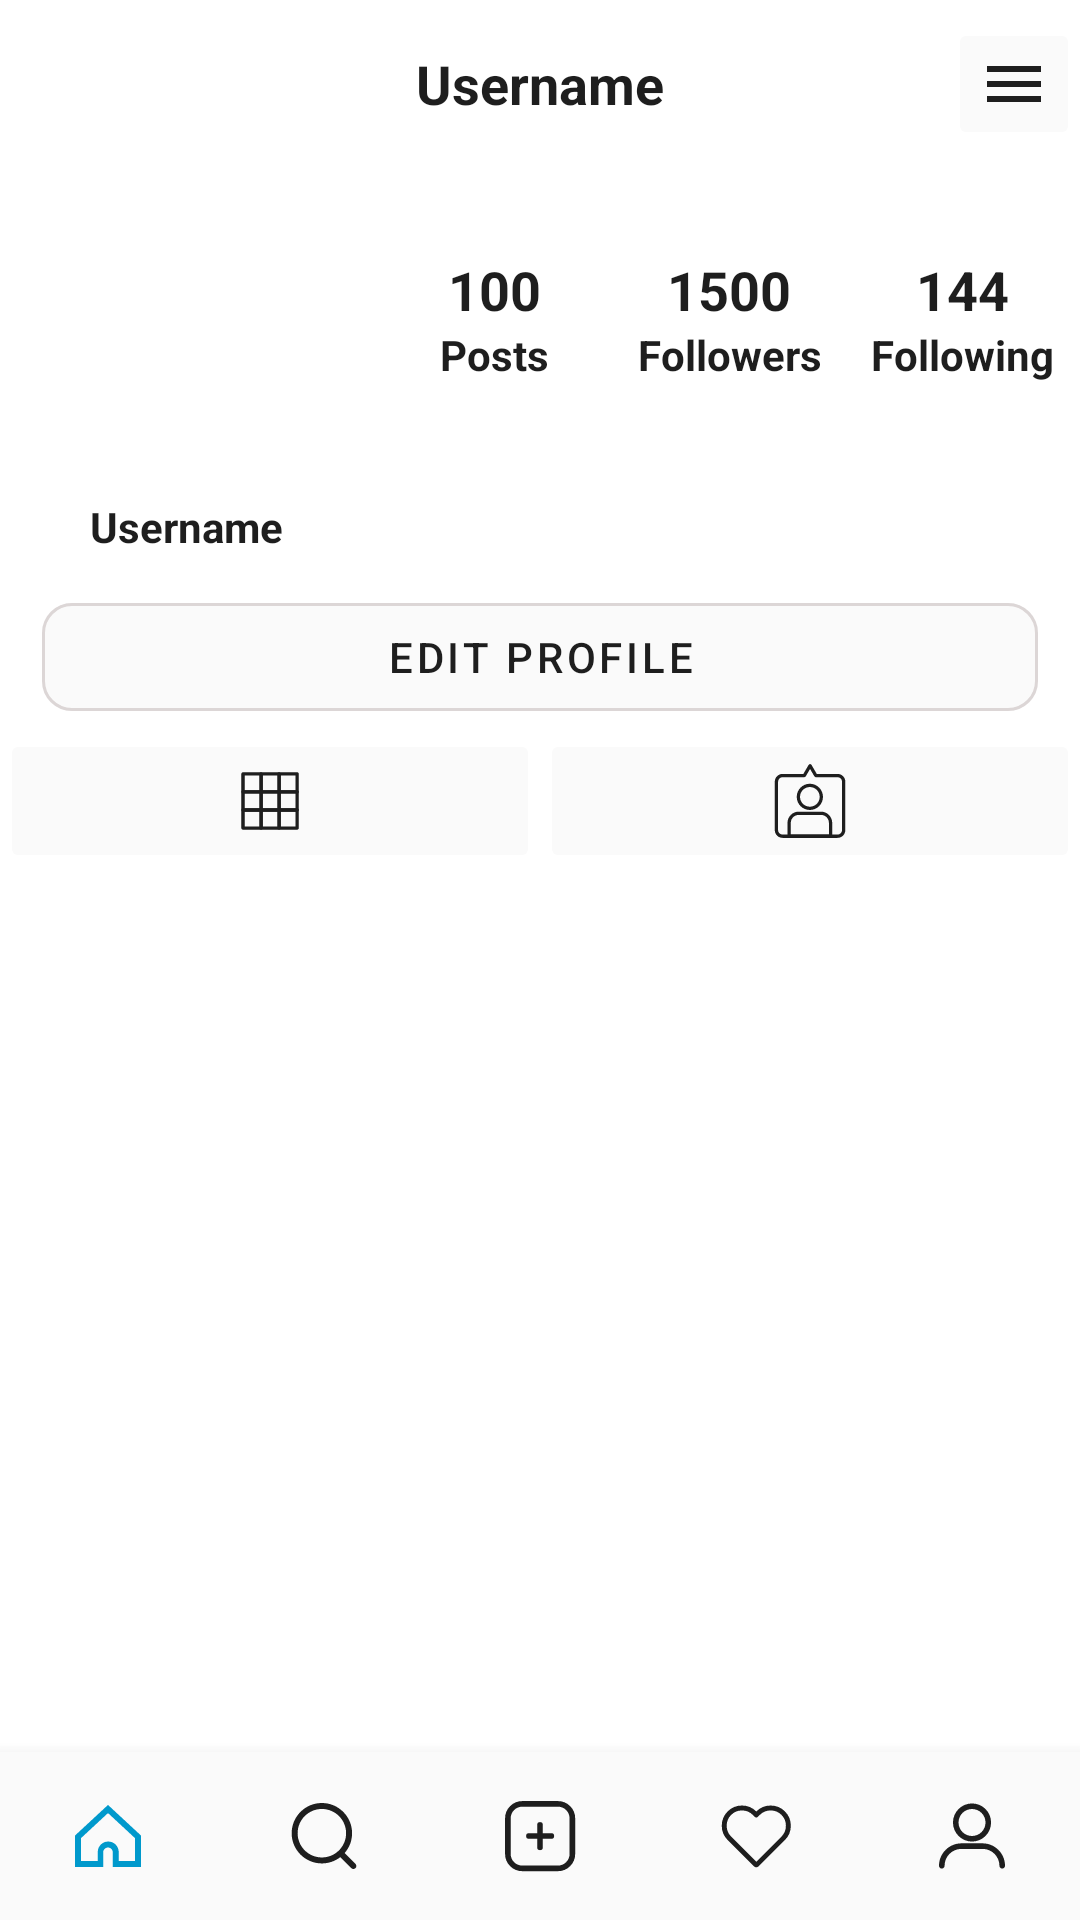

Icons on this 1080 × 1920 Android screen, each with the point to tap as (x=x, y=y):
grid: (x=270, y=801)
menu: (x=1014, y=84)
